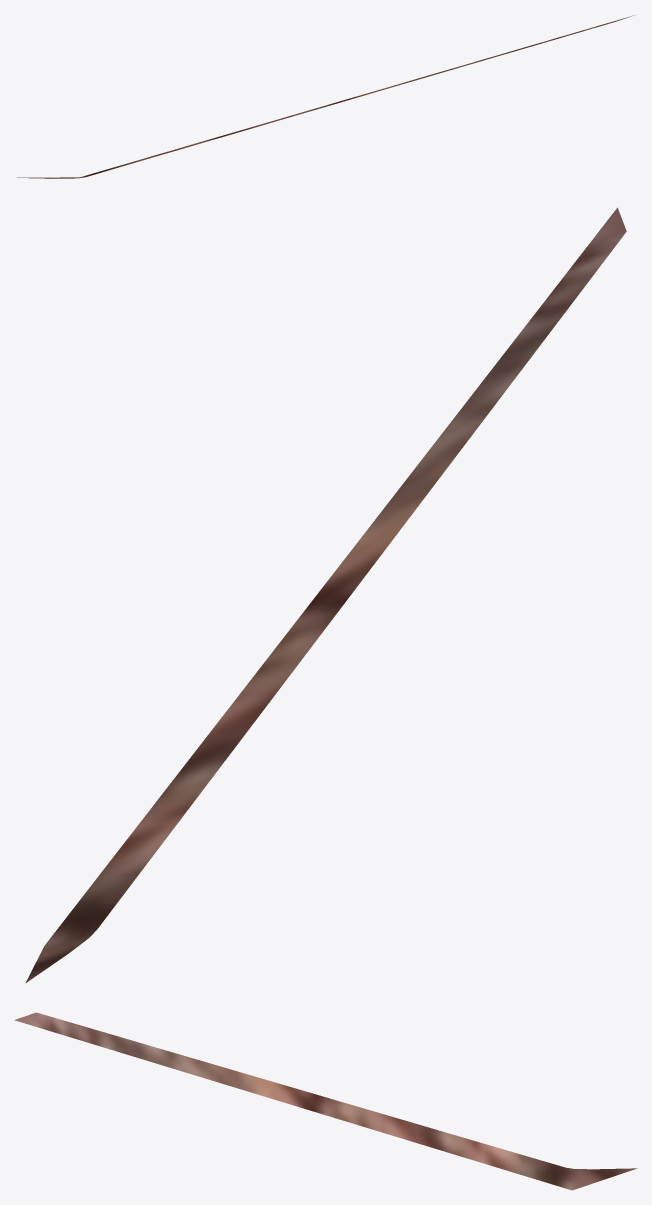
3 views of the same model, one above another, from view 1: azimuth 90°, elevation 25°; view 2: azimuth 150°, elevation 25°; view 3: azimuth 270°, elevation 25° (orthographic). The views are drawn at different scales.
Bounding box in the file's own units: 0.0508 × 0.3478 × 1.18.
1 material, 1 textured.
